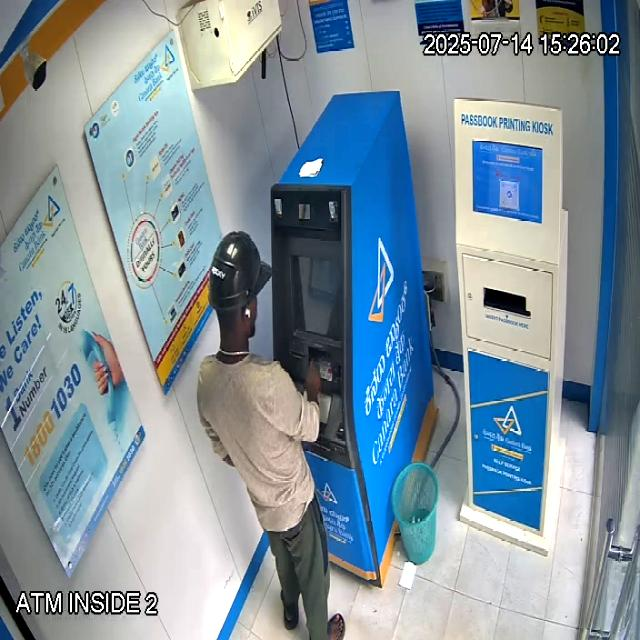helmet: (206, 231, 272, 343)
